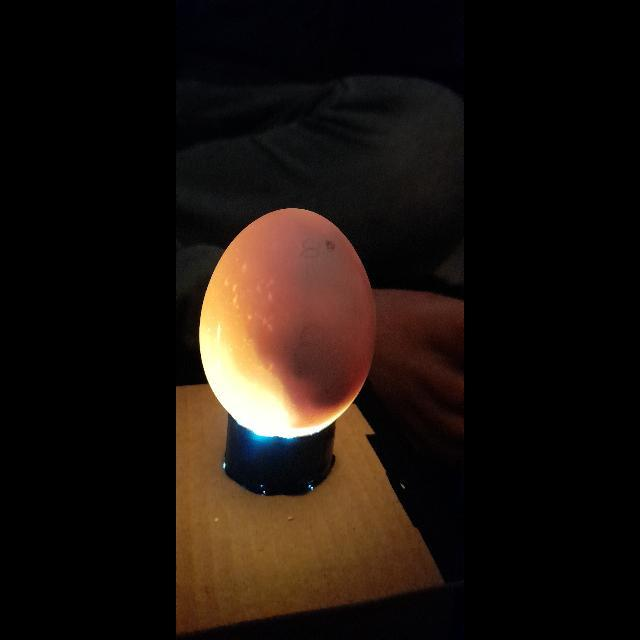Infertile: (197, 202, 379, 442)
